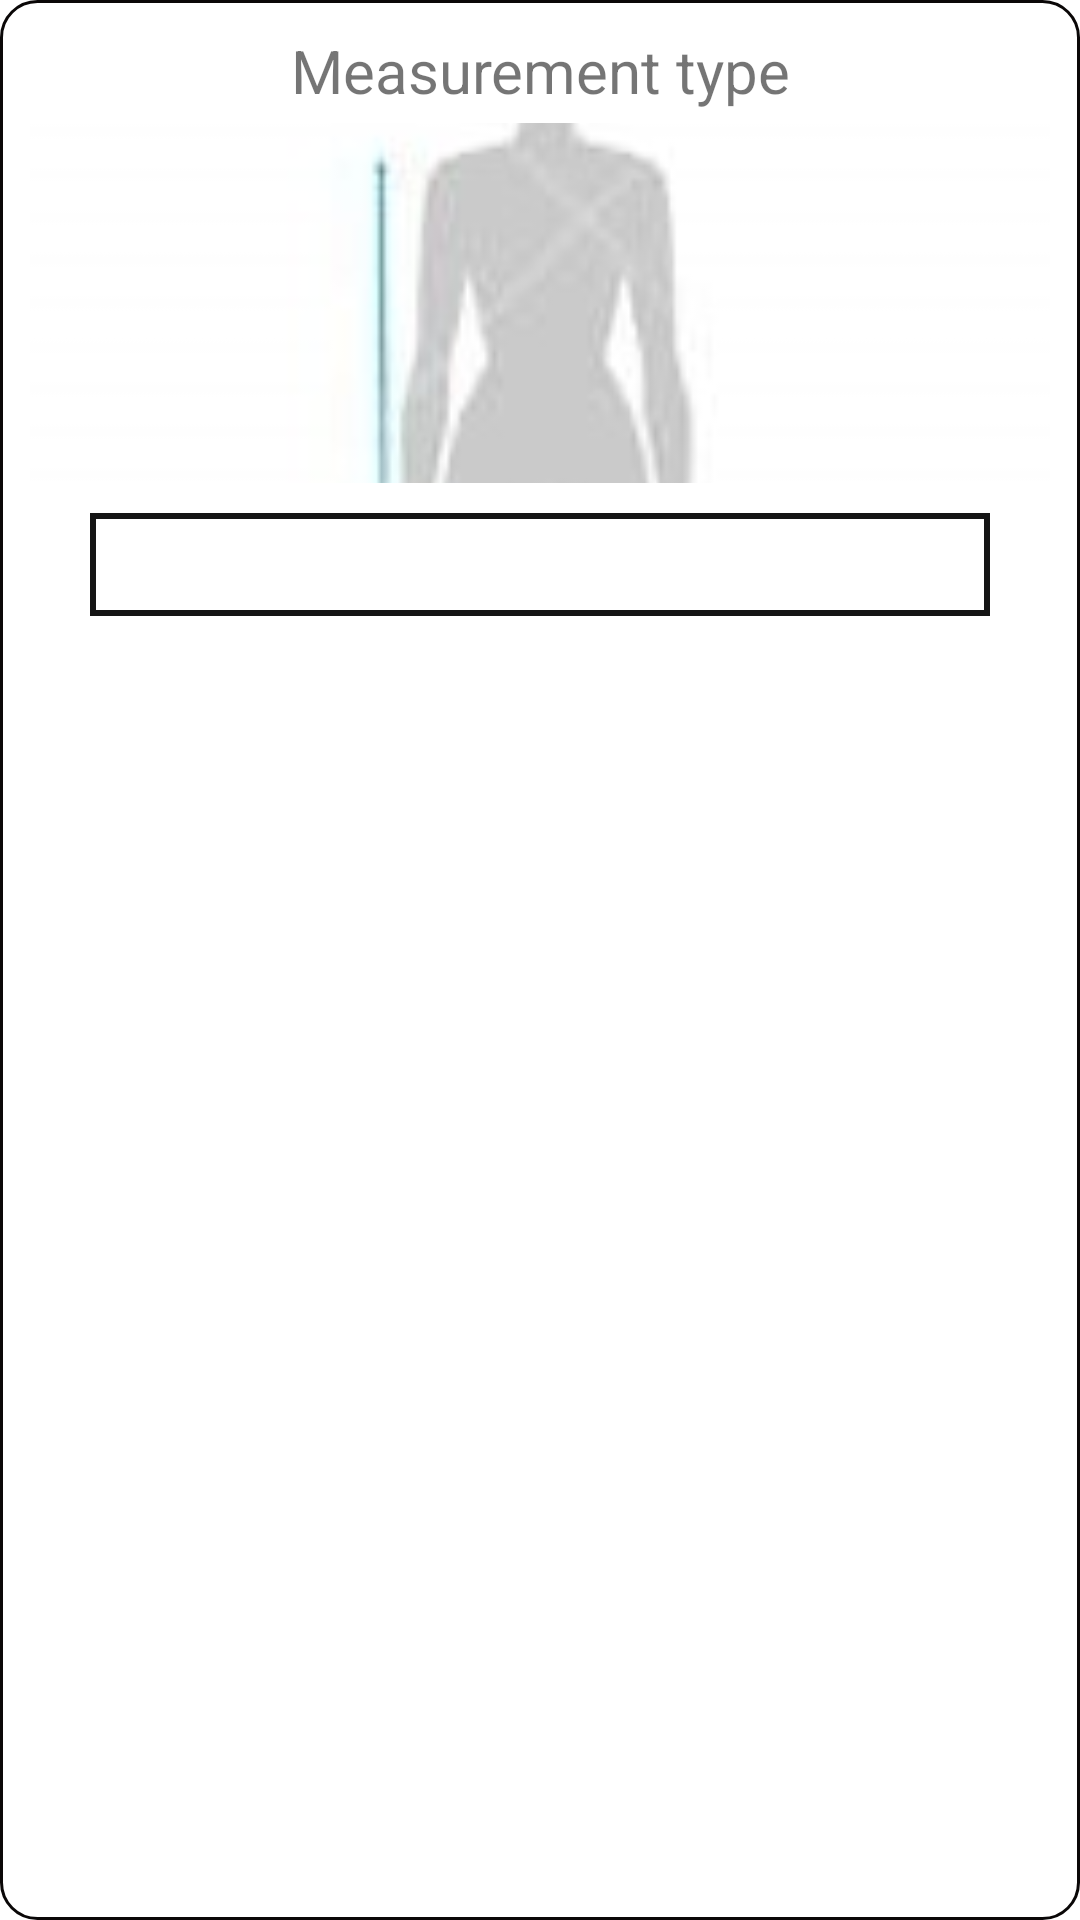

Icons on this 1080w x 1920h Android screen, each with the point to tap as [x,y]:
arm length: [532,303]
